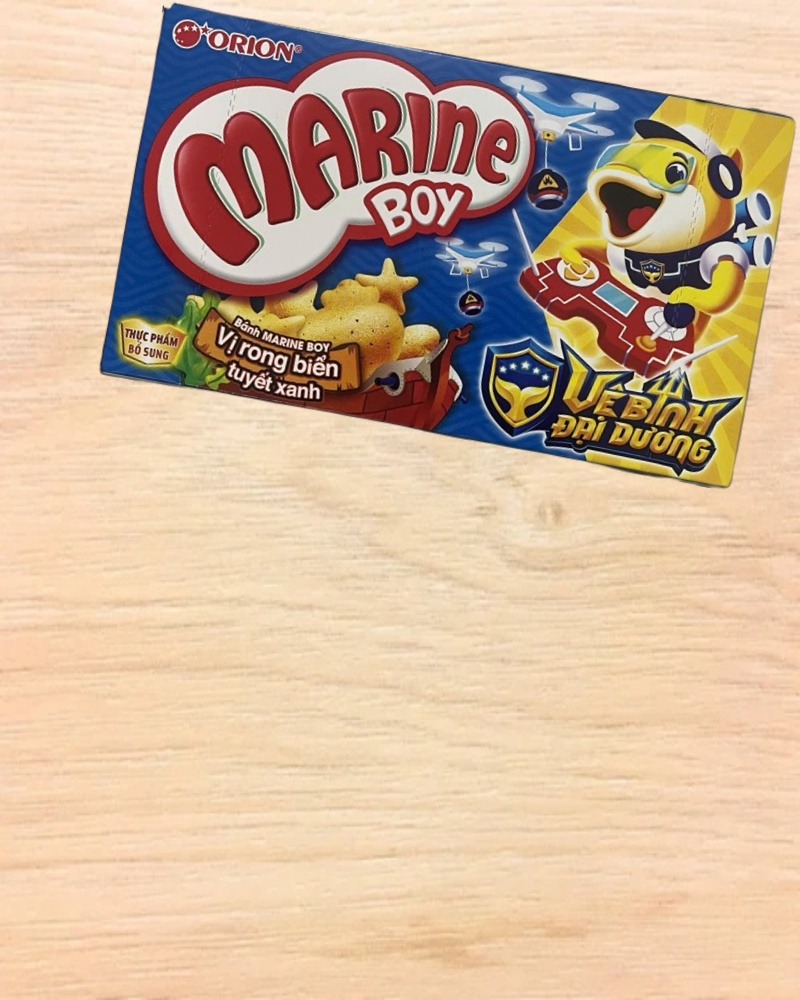Marine: (100, 2, 800, 491)
